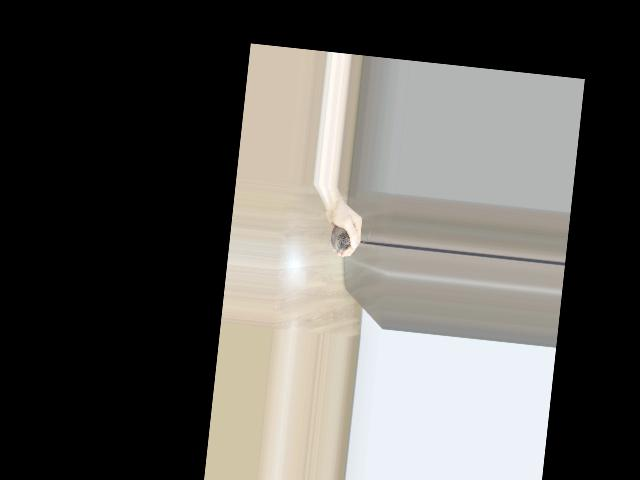beet: (329, 224, 371, 256)
